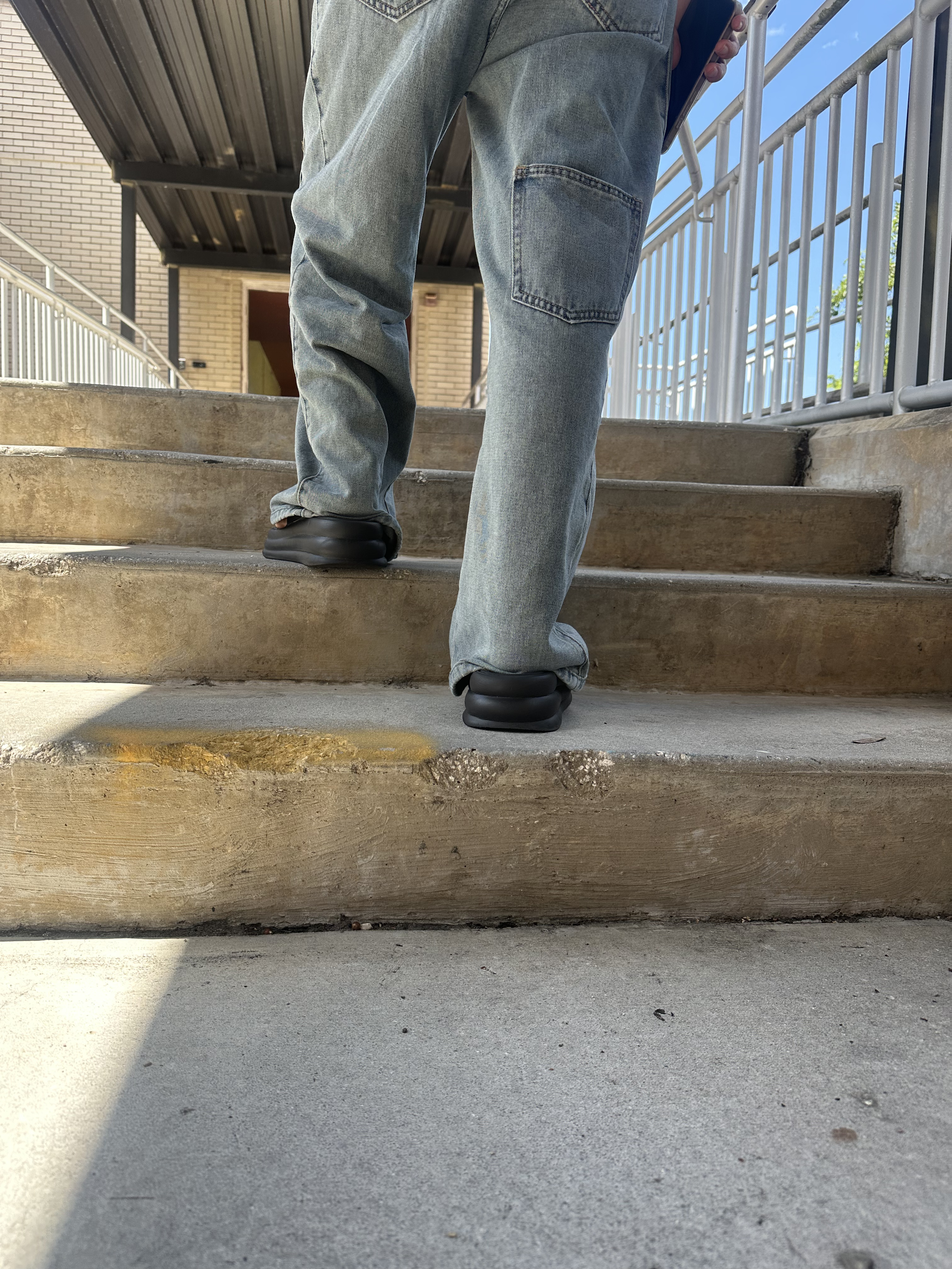stairs: (1, 378, 952, 934)
